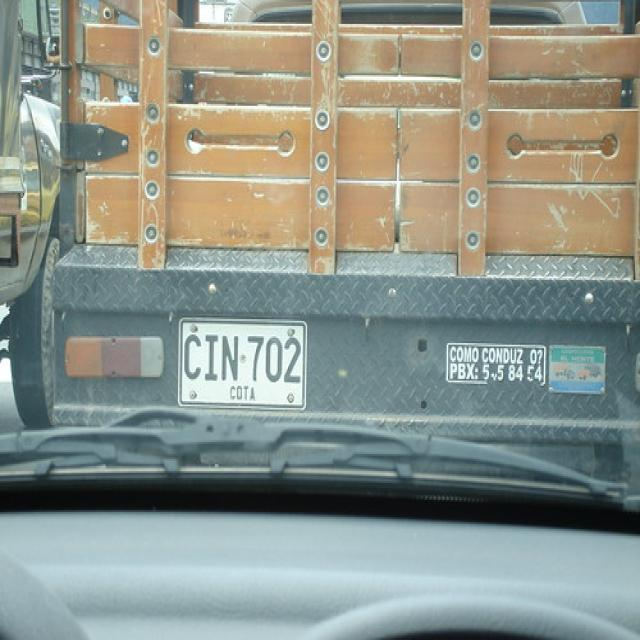placas: (179, 325, 306, 384)
